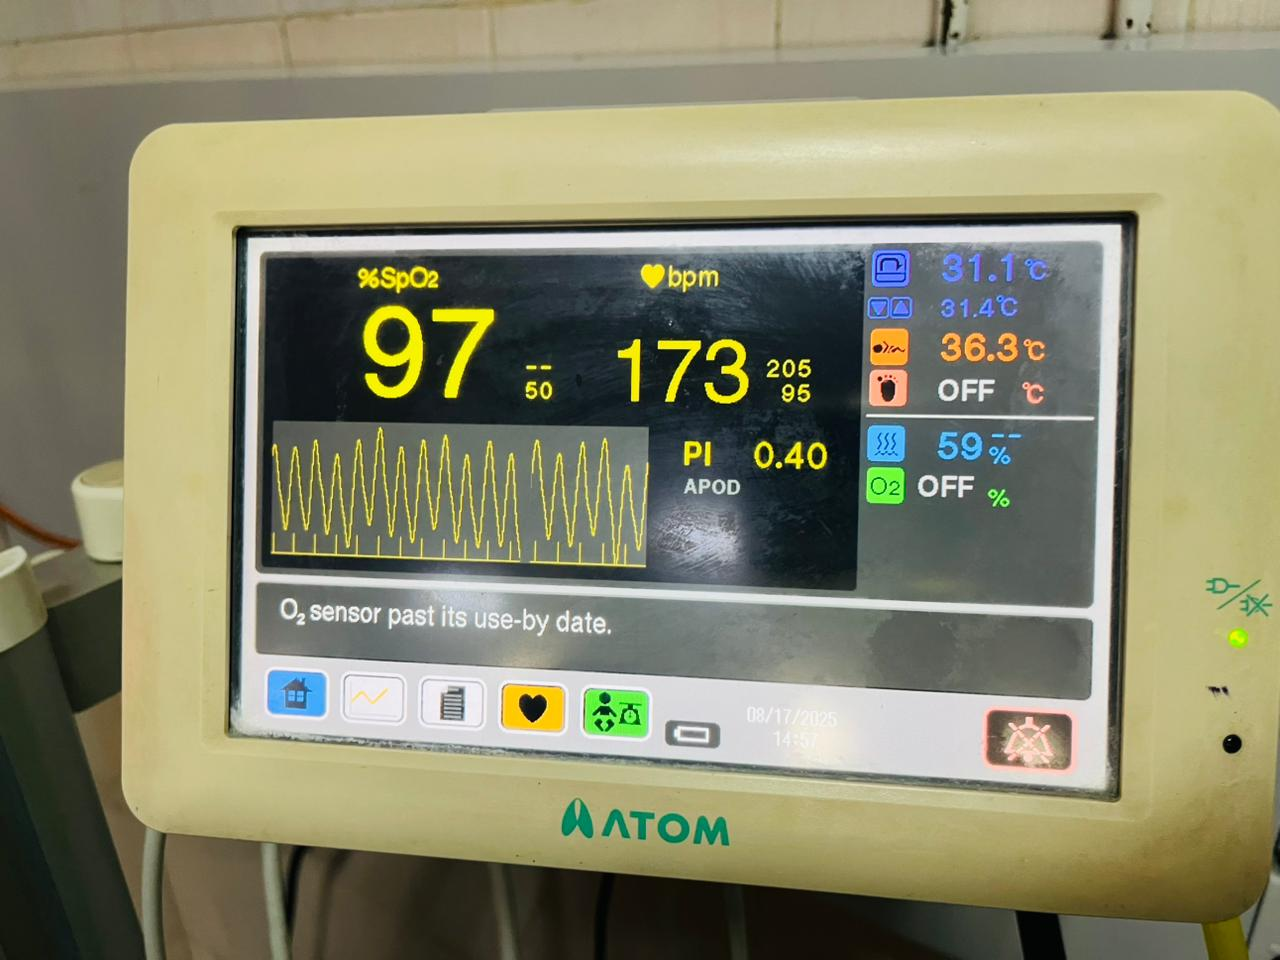heart_rate_value: (600, 321, 757, 413)
humidity_value: (924, 421, 990, 472)
skin_temp_value: (930, 323, 1019, 374)
spo2_value: (342, 300, 515, 407)
